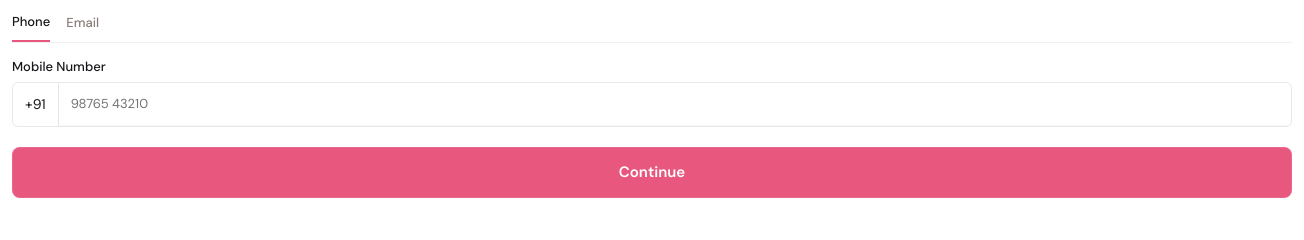
OtpForm › displays error when phone is invalid
The width and height of the screenshot is (1304, 240).
Type "123" into the field labelled "Mobile Number".
click(675, 104); type("123")  # box [59,84,1291,125]
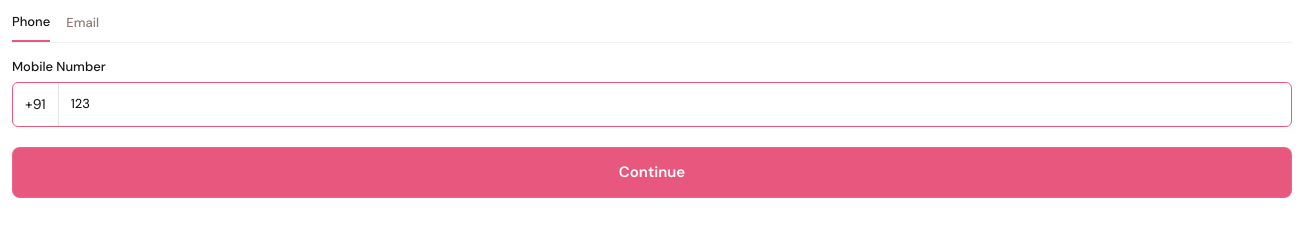
Click the button "Continue".
click(652, 172)  # box [12,147,1292,198]
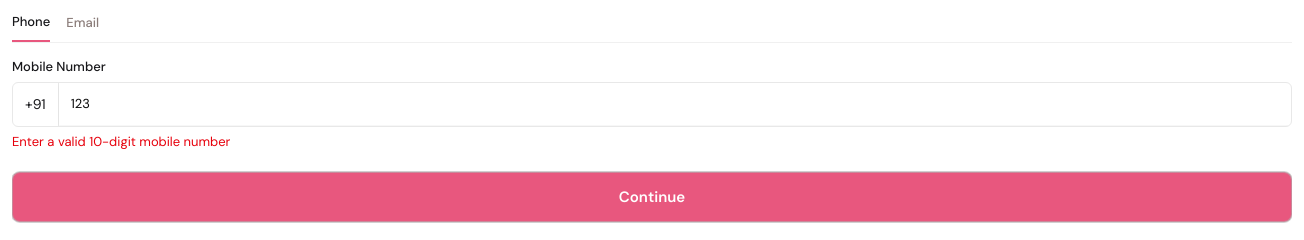
Now the text "Enter a valid 10-digit mobile number" is shown, box [12,133,230,150]
